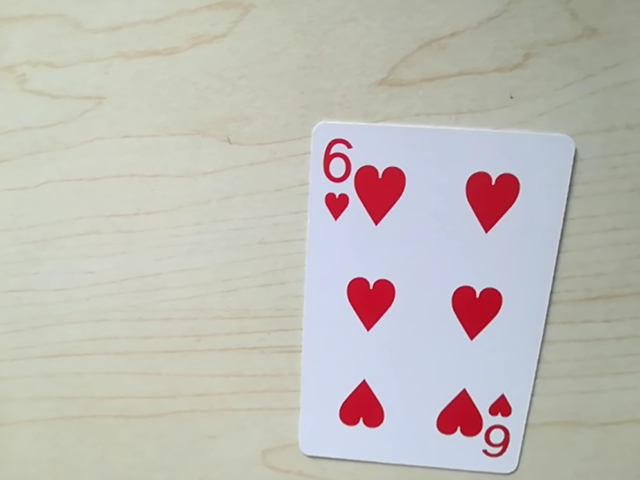hx 6: (314, 131, 362, 192), (473, 408, 516, 466)
